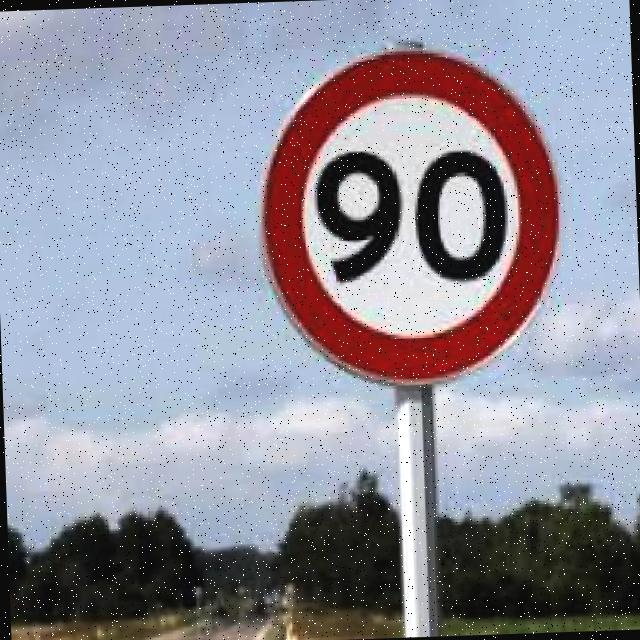Ograniczenie predkosci do 90: (261, 44, 566, 394)
